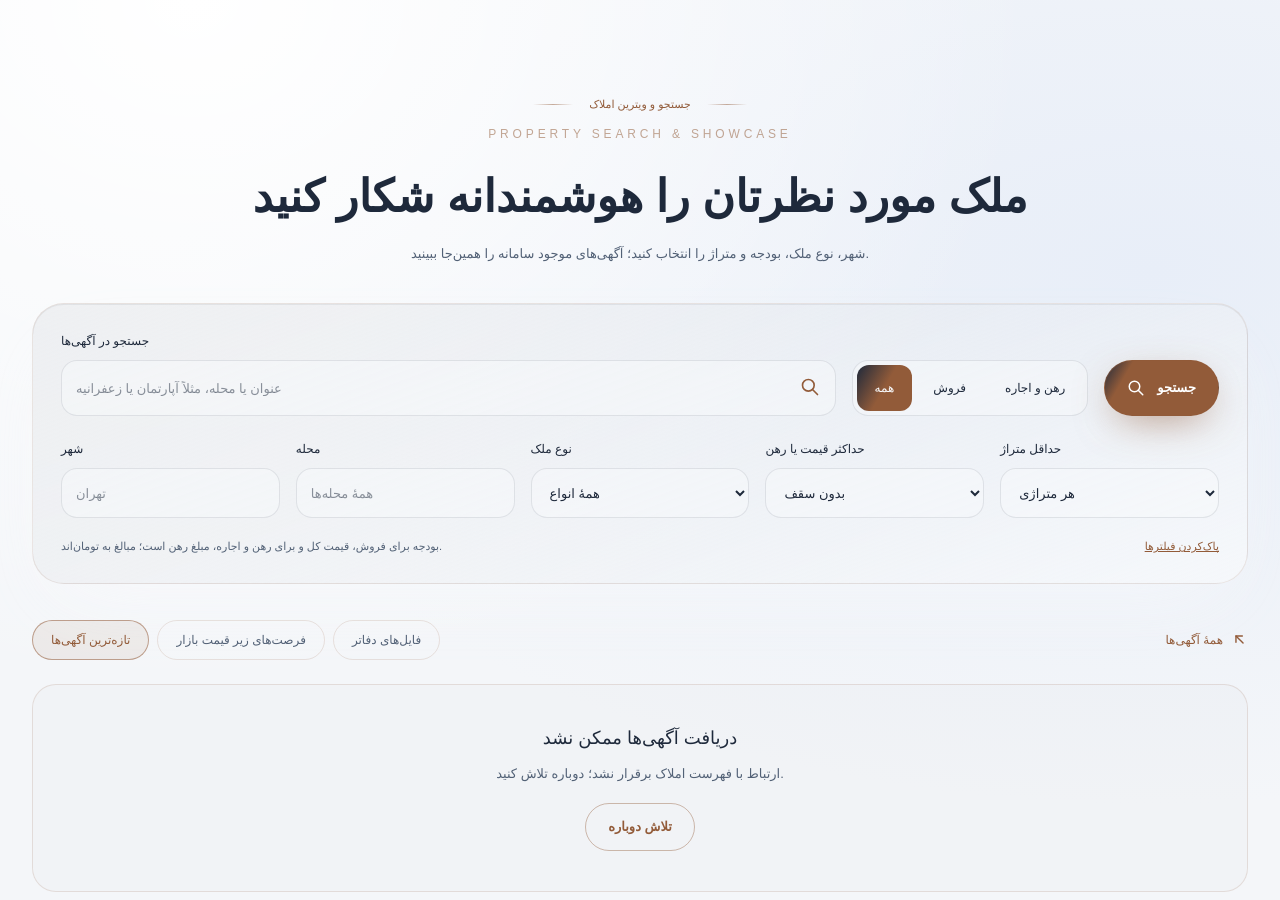
Scenario: landing inventory showcase › supports retry after a failed request
This screenshot has width=1280, height=900.
Click the button "تلاش دوباره": (640, 827) [585, 803, 695, 851]
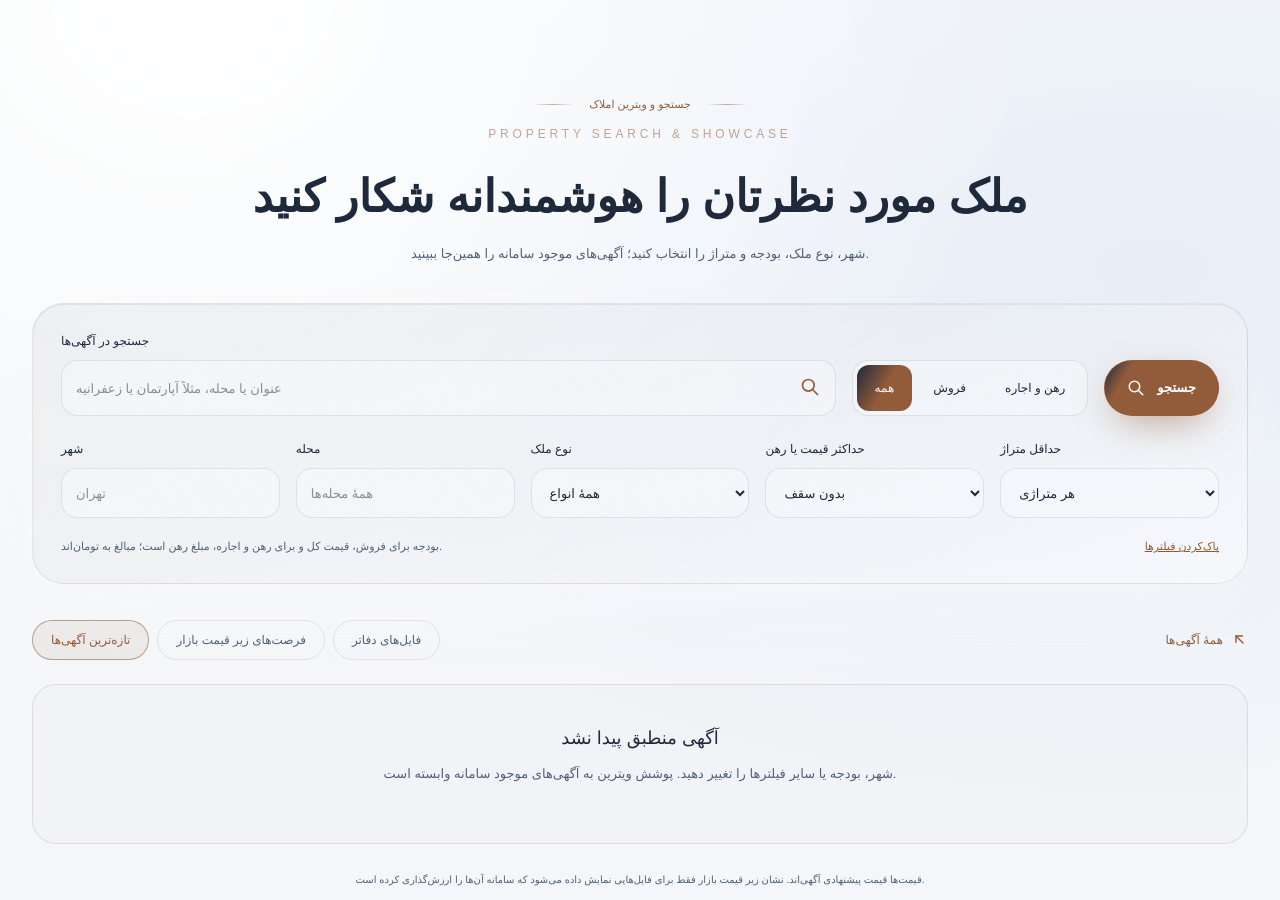
expect the heading "آگهی منطبق پیدا نشد" is shown: met, box [561, 728, 719, 748]
